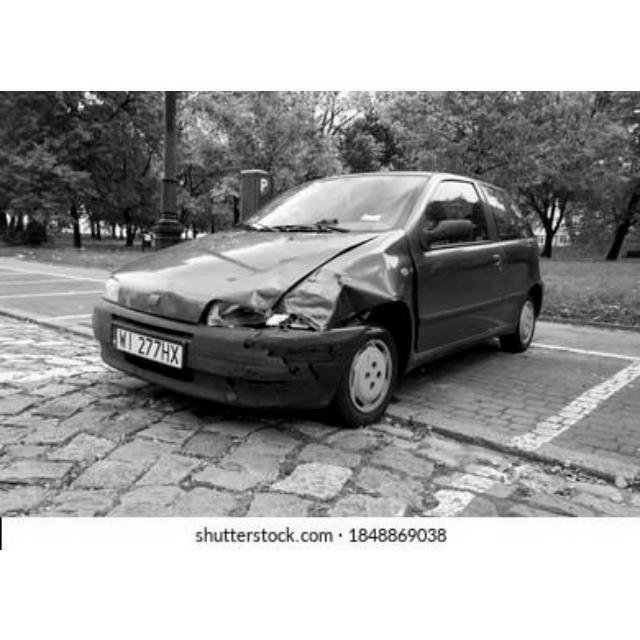bonnet-dent: (107, 232, 285, 325)
fender-dent: (284, 257, 416, 330)
front-bumper-dent: (176, 326, 369, 416)
